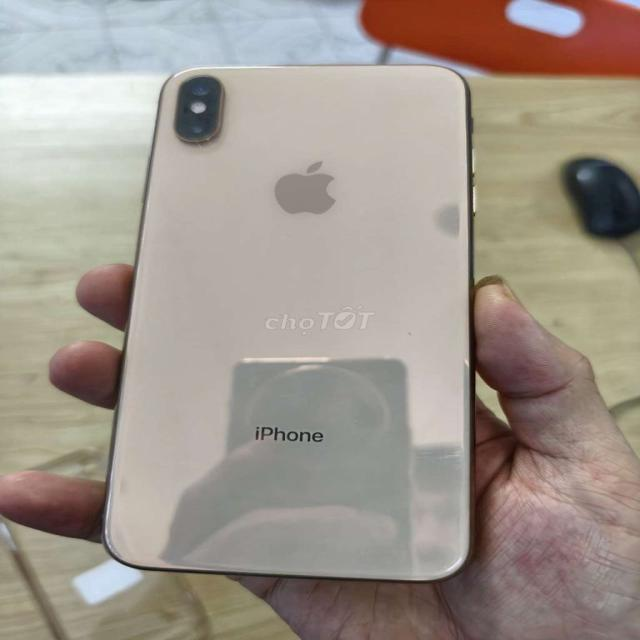gen_x_xs: (98, 66, 475, 596)
